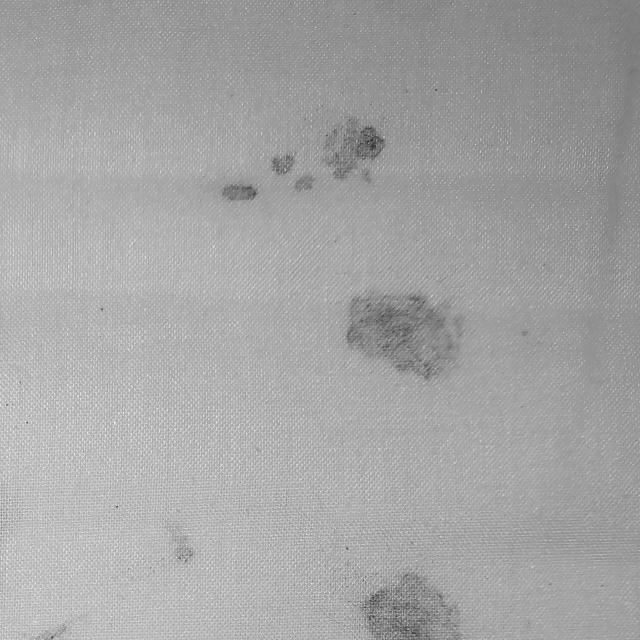Stain: (346, 292, 465, 380), (365, 574, 461, 640), (323, 117, 385, 182), (32, 611, 90, 640), (167, 524, 193, 565), (222, 184, 256, 200), (271, 154, 295, 174), (294, 175, 314, 191)
